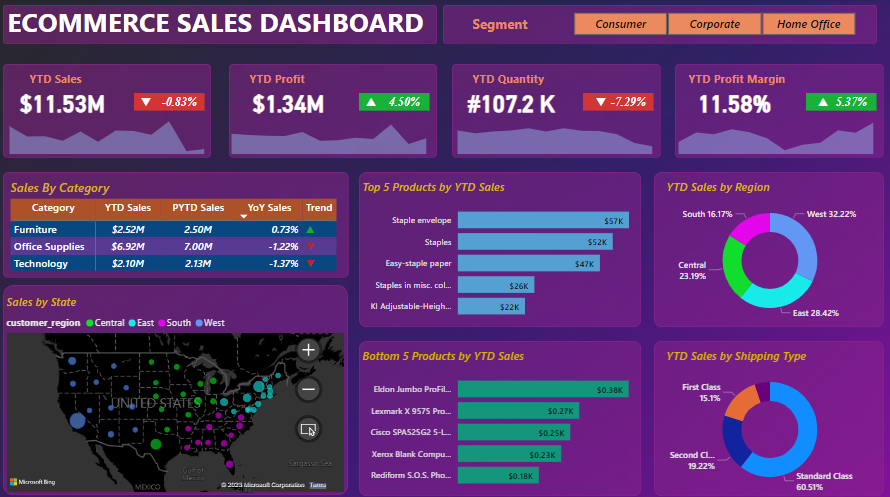

The dashboard page shown, as its layout file describes it:
{"tool":"powerbi","page":{"name":"Dashboard","canvas":[1280,720],"ordinal":0},"visuals":[{"type":"shape","box":[9.9,9.9,615,55],"z":0},{"type":"textbox","box":[11.3,2.8,615.1,69.4],"z":1000},{"type":"shape","box":[9.9,93.4,295,133],"z":2000},{"type":"card","fields":{"Values":["ecommerce_data.YTD Sales"]},"box":[9.9,120.2,168.3,53.8],"z":3000},{"type":"areaChart","fields":{"Y":["Sum(ecommerce_data.sales_per_order)"],"Category":["Calendar.Month"]},"box":[4.2,159.8,305.5,66.5],"z":4000},{"type":"shape","box":[195.2,134.4,100.4,25.5],"z":5000},{"type":"card","fields":{"Values":["ecommerce_data.YoY Sales"]},"box":[223.5,131.6,72.1,33.9],"z":6000},{"type":"card","fields":{"Values":["ecommerce_data.Sales Icon"]},"box":[195.2,134.4,33.9,26.9],"z":7000},{"type":"textbox","box":[42.5,97.8,100.6,34],"z":8000},{"type":"shape","box":[329.7,93.5,295,133],"z":9000},{"type":"card","fields":{"Values":["ecommerce_data.YTD Profit"]},"box":[329.7,120.3,168.3,53.8],"z":10000},{"type":"shape","box":[515,134.5,100.4,25.5],"z":11000},{"type":"card","fields":{"Values":["ecommerce_data.YoY Profit"]},"box":[543.3,131.7,72.1,33.9],"z":12000},{"type":"card","fields":{"Values":["ecommerce_data.Profit Icon"]},"box":[514.9,134.4,33.9,26.9],"z":13000},{"type":"textbox","box":[354.3,97.8,99.2,34],"z":14000},{"type":"areaChart","fields":{"Category":["Calendar.Month"],"Y":["Sum(ecommerce_data.profit_per_order)"]},"box":[318.3,159.8,305.5,66.5],"z":15000},{"type":"shape","box":[646.4,93.4,295.6,133],"z":16000},{"type":"card","fields":{"Values":["ecommerce_data.YTD Concatenated Qty"]},"box":[646.6,120.4,168.3,53.8],"z":17000},{"type":"shape","box":[831.9,134.6,100.4,25.5],"z":18000},{"type":"card","fields":{"Values":["ecommerce_data.YoY Qty"]},"box":[860.2,131.7,72.1,33.9],"z":19000},{"type":"card","fields":{"Values":["ecommerce_data.Qty Icon"]},"box":[831.7,134.4,50.9,26.9],"z":20000},{"type":"textbox","box":[670.4,97.8,144.6,34],"z":21000},{"type":"shape","box":[961.9,93.4,295.6,133],"z":22000},{"type":"card","fields":{"Values":["ecommerce_data.YTD Profit Margin"]},"box":[962.2,120.5,168.3,53.8],"z":23000},{"type":"shape","box":[1147.5,134.7,100.4,25.5],"z":24000},{"type":"card","fields":{"Values":["ecommerce_data.YoY Profit Margin"]},"box":[1175.8,131.8,72.1,33.9],"z":25000},{"type":"card","fields":{"Values":["ecommerce_data.Profit Margin Icon"]},"box":[1147.2,134.4,50.9,26.9],"z":26000},{"type":"textbox","box":[976.5,97.8,170.1,34],"z":27000},{"type":"areaChart","fields":{"Category":["Calendar.Month"],"Y":["Sum(ecommerce_data.order_quantity)"]},"box":[639.4,159.8,305.5,66.5],"z":28000},{"type":"areaChart","fields":{"Category":["Calendar.Month"],"Y":["ecommerce_data.Profit Margin"]},"box":[952,159.8,305.5,66.5],"z":29000},{"type":"shape","box":[9.9,246.1,490,150],"z":30000},{"type":"pivotTable","title":"Sales By Category","fields":{"Rows":["ecommerce_data.category_name"],"Values":["ecommerce_data.YTD Sales","ecommerce_data.PYTD Sales","ecommerce_data.YoY Sales","ecommerce_data.Sales Icon"]},"box":[15.6,256,482.4,140],"z":31000},{"type":"shape","box":[9.9,407.4,489.4,298.5],"z":32000},{"type":"map","title":"Sales by State","fields":{"Y":["us_state_long_lat_codes.latitude"],"X":["us_state_long_lat_codes.longitude"],"Size":["ecommerce_data.YTD Sales"],"Series":["ecommerce_data.customer_region"]},"box":[9.9,420.1,488,285.7],"z":33000},{"type":"shape","box":[514.5,246.6,400,220],"z":34000},{"type":"shape","box":[514.5,486.1,399.7,219.7],"z":35000},{"type":"barChart","title":"Top 5 Products by YTD Sales","fields":{"Category":["ecommerce_data.product_name"],"Y":["ecommerce_data.YTD Sales"]},"box":[514.5,256.5,399.7,209.8],"z":36000},{"type":"barChart","title":"Bottom 5 Products by YTD Sales","fields":{"Category":["ecommerce_data.product_name"],"Y":["ecommerce_data.YTD Sales"]},"box":[514.5,496.1,399.7,209.8],"z":37000},{"type":"shape","box":[932.6,246.6,326,219.7],"z":38000},{"type":"shape","box":[932.6,486.1,326,219.7],"z":39000},{"type":"donutChart","title":"YTD Sales by Region","fields":{"Category":["ecommerce_data.customer_region"],"Y":["ecommerce_data.YTD Sales"]},"box":[945.4,256.5,303.3,209.8],"z":40000},{"type":"donutChart","title":"YTD Sales by Shipping Type","fields":{"Y":["ecommerce_data.YTD Sales"],"Category":["ecommerce_data.shipping_type"]},"box":[945.4,496.1,303.3,209.8],"z":41000},{"type":"shape","box":[633.5,9.9,615.1,55.3],"z":42000},{"type":"slicer","fields":{"Values":["ecommerce_data.customer_segment"]},"box":[793.7,14.2,447.9,45.4],"z":43000},{"type":"textbox","box":[670.4,18.4,144.6,39.7],"z":44000}]}

Visuals, with their boxes in screenshot pixels (x1, y1, x2, y2), scaled from the page's 1280x720 canvas onto the 890x497 screenshot:
shape: BBox(7, 7, 435, 45)
textbox: BBox(8, 2, 436, 50)
shape: BBox(7, 64, 212, 156)
card - ecommerce_data.YTD Sales: BBox(7, 83, 124, 120)
areaChart - Sum(ecommerce_data.sales_per_order) x Calendar.Month: BBox(3, 110, 215, 156)
shape: BBox(136, 93, 206, 110)
card - ecommerce_data.YoY Sales: BBox(155, 91, 206, 114)
card - ecommerce_data.Sales Icon: BBox(136, 93, 159, 111)
textbox: BBox(30, 68, 99, 91)
shape: BBox(229, 65, 434, 156)
card - ecommerce_data.YTD Profit: BBox(229, 83, 346, 120)
shape: BBox(358, 93, 428, 110)
card - ecommerce_data.YoY Profit: BBox(378, 91, 428, 114)
card - ecommerce_data.Profit Icon: BBox(358, 93, 382, 111)
textbox: BBox(246, 68, 315, 91)
areaChart - Calendar.Month x Sum(ecommerce_data.profit_per_order): BBox(221, 110, 434, 156)
shape: BBox(449, 64, 655, 156)
card - ecommerce_data.YTD Concatenated Qty: BBox(450, 83, 567, 120)
shape: BBox(578, 93, 648, 111)
card - ecommerce_data.YoY Qty: BBox(598, 91, 648, 114)
card - ecommerce_data.Qty Icon: BBox(578, 93, 614, 111)
textbox: BBox(466, 68, 567, 91)
shape: BBox(669, 64, 874, 156)
card - ecommerce_data.YTD Profit Margin: BBox(669, 83, 786, 120)
shape: BBox(798, 93, 868, 111)
card - ecommerce_data.YoY Profit Margin: BBox(818, 91, 868, 114)
card - ecommerce_data.Profit Margin Icon: BBox(798, 93, 833, 111)
textbox: BBox(679, 68, 797, 91)
areaChart - Calendar.Month x Sum(ecommerce_data.order_quantity): BBox(445, 110, 657, 156)
areaChart - Calendar.Month x ecommerce_data.Profit Margin: BBox(662, 110, 874, 156)
shape: BBox(7, 170, 348, 273)
"Sales By Category" pivotTable: BBox(11, 177, 346, 273)
shape: BBox(7, 281, 347, 487)
"Sales by State" map: BBox(7, 290, 346, 487)
shape: BBox(358, 170, 636, 322)
shape: BBox(358, 336, 636, 487)
"Top 5 Products by YTD Sales" barChart: BBox(358, 177, 636, 322)
"Bottom 5 Products by YTD Sales" barChart: BBox(358, 342, 636, 487)
shape: BBox(648, 170, 875, 322)
shape: BBox(648, 336, 875, 487)
"YTD Sales by Region" donutChart: BBox(657, 177, 868, 322)
"YTD Sales by Shipping Type" donutChart: BBox(657, 342, 868, 487)
shape: BBox(440, 7, 868, 45)
slicer - ecommerce_data.customer_segment: BBox(552, 10, 863, 41)
textbox: BBox(466, 13, 567, 40)
